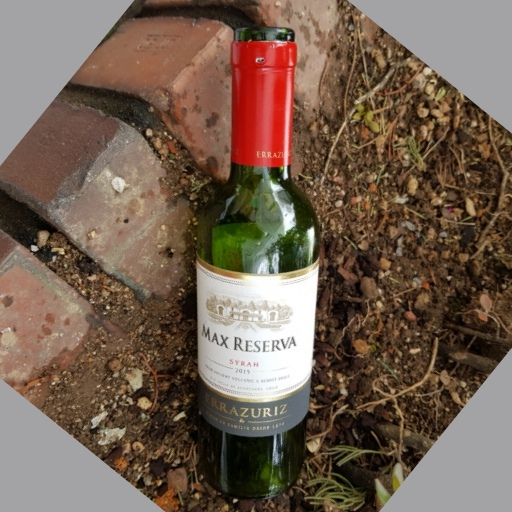Glass_2: (189, 25, 322, 498)
